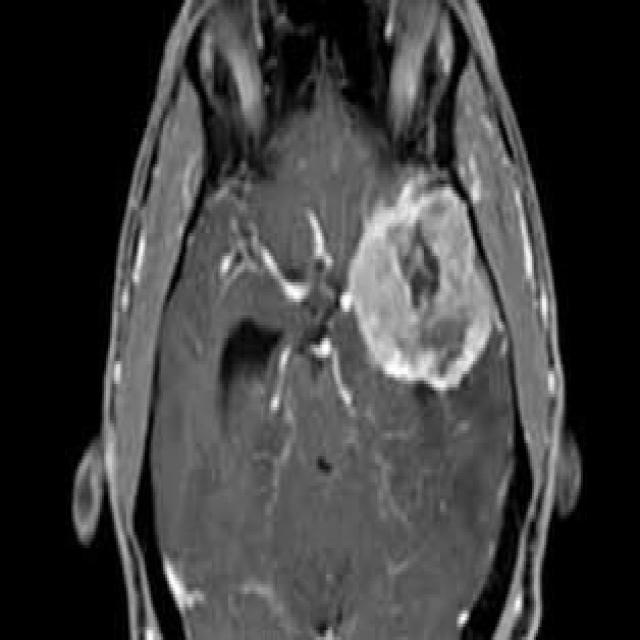meningioma: (346, 171, 497, 391)
